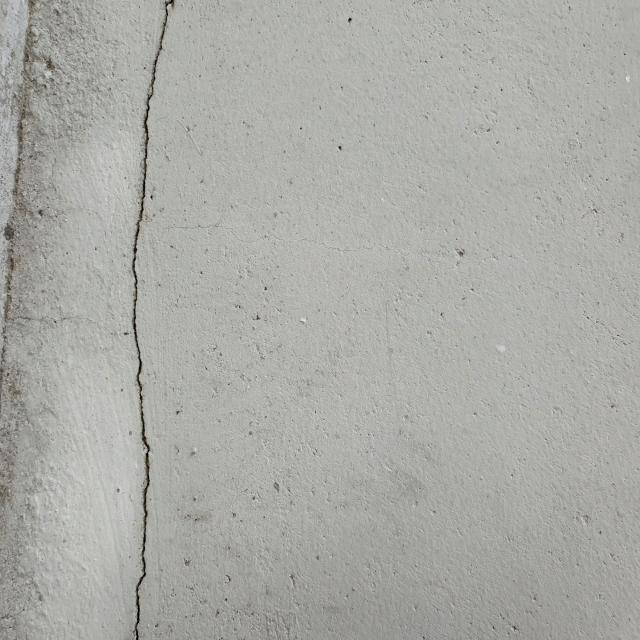SurfaceCrack: (90, 1, 211, 640)
